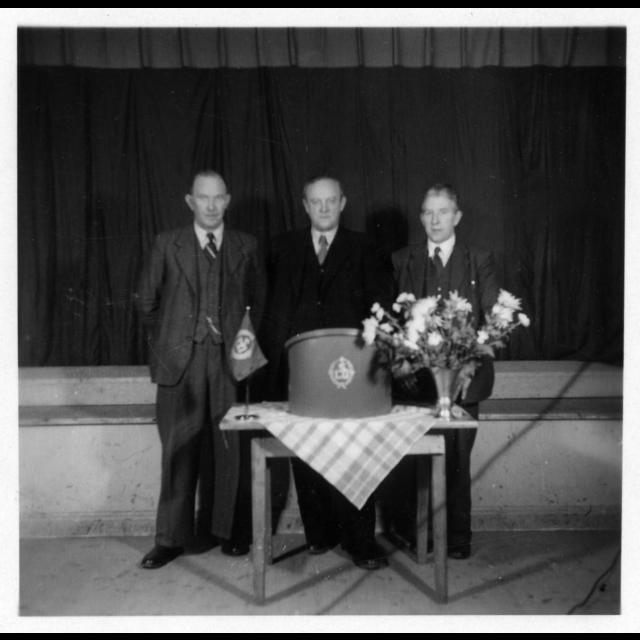Flower: (412, 294, 440, 318), (356, 316, 379, 339), (492, 299, 512, 319), (446, 290, 468, 308), (426, 330, 446, 346), (497, 292, 519, 306), (391, 297, 413, 307), (478, 332, 492, 344), (406, 326, 416, 342), (518, 311, 528, 327), (406, 318, 420, 328), (378, 306, 388, 318), (370, 302, 376, 310)
